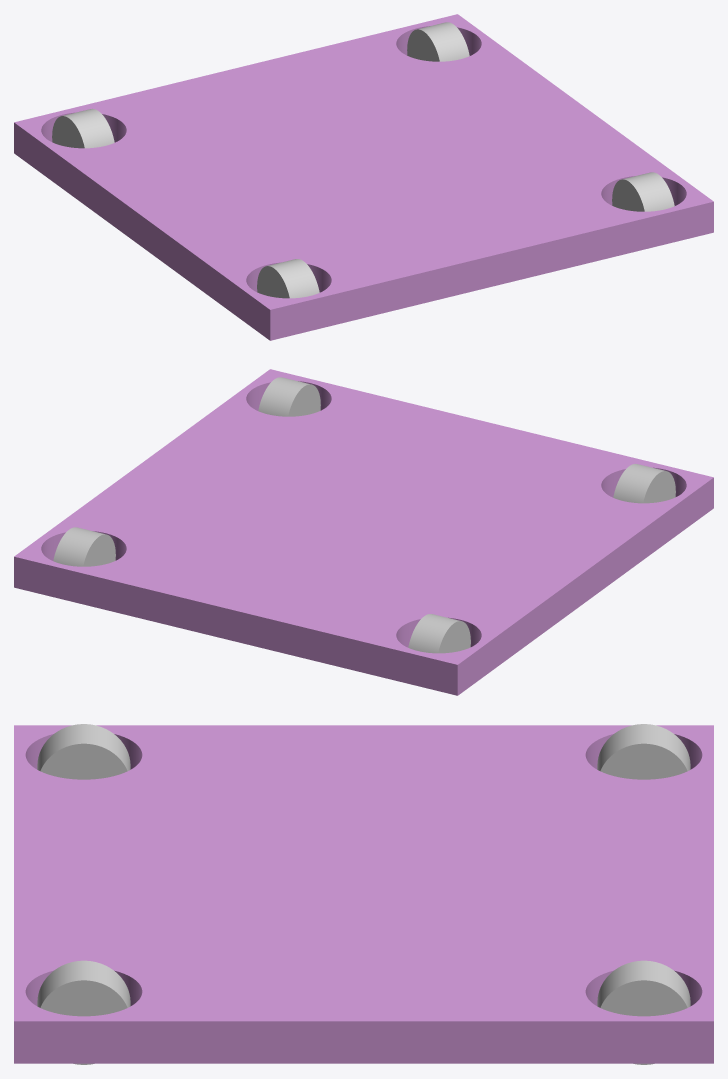
Rendered from swerve drive.gltf.
3 renders of one model, top to bottom at view 1: azimuth 30°, elevation 25°; view 2: azimuth 150°, elevation 25°; view 3: azimuth 270°, elevation 25°, orthographic. The views are drawn at different scales.
Visible parts, largest first — view 1: base, BR, FR, FL, BL; view 2: base, FR, BR, FL, BL; view 3: base, FL, BL, FR, BR.
Boxes of the visible parts, bbox=[...] form: base: bbox=[14, 14, 713, 340]; BR: bbox=[52, 108, 114, 148]; FR: bbox=[257, 259, 319, 298]; FL: bbox=[612, 172, 674, 211]; BL: bbox=[407, 22, 469, 61]; base: bbox=[14, 369, 713, 695]; FR: bbox=[613, 463, 675, 503]; BR: bbox=[408, 614, 470, 653]; FL: bbox=[258, 377, 320, 416]; BL: bbox=[53, 527, 115, 566]; base: bbox=[14, 725, 713, 1063]; FL: bbox=[37, 960, 130, 1064]; BL: bbox=[597, 960, 690, 1064]; FR: bbox=[37, 724, 130, 779]; BR: bbox=[597, 724, 690, 779].
Size of the model in its own units: 0.762 by 0.1015 by 0.762.
